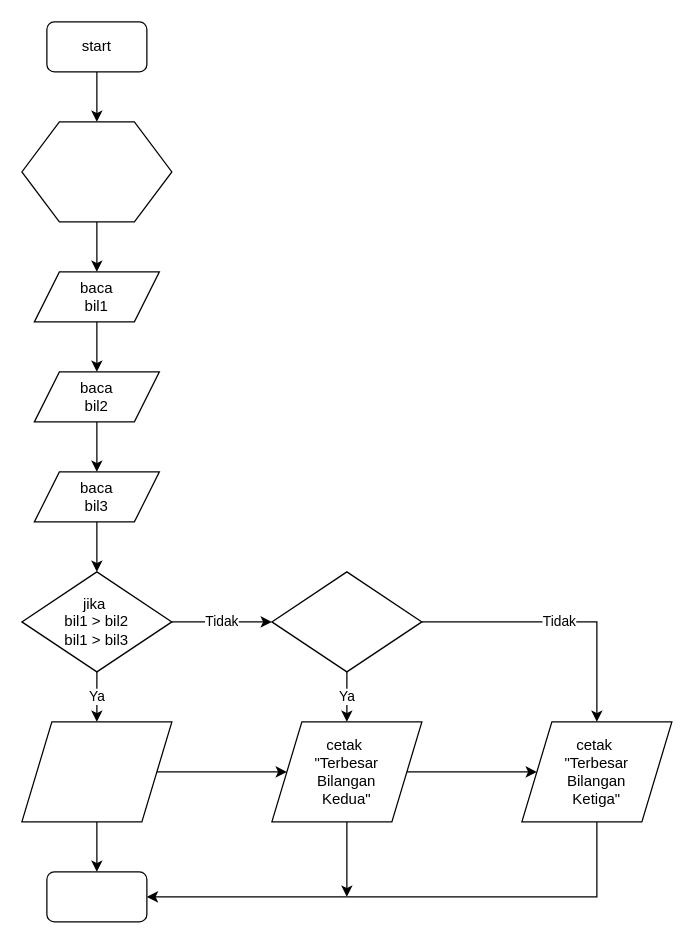
This 694x944 diagram has some shape labels left out. The shapes that lost their labels are listed below. From the top down, each one's box as (x1, y1, x2, y2) in pixels, then its label:
(21, 121, 172, 222): Inisiasi bil1 : integer bil2 : integer bil3 : integer
(271, 571, 422, 672): jika bil2 > bil3 bil2 > bil1
(21, 721, 172, 822): cetak "Terbesar Bilangan Pertama"
(46, 871, 147, 922): finish
